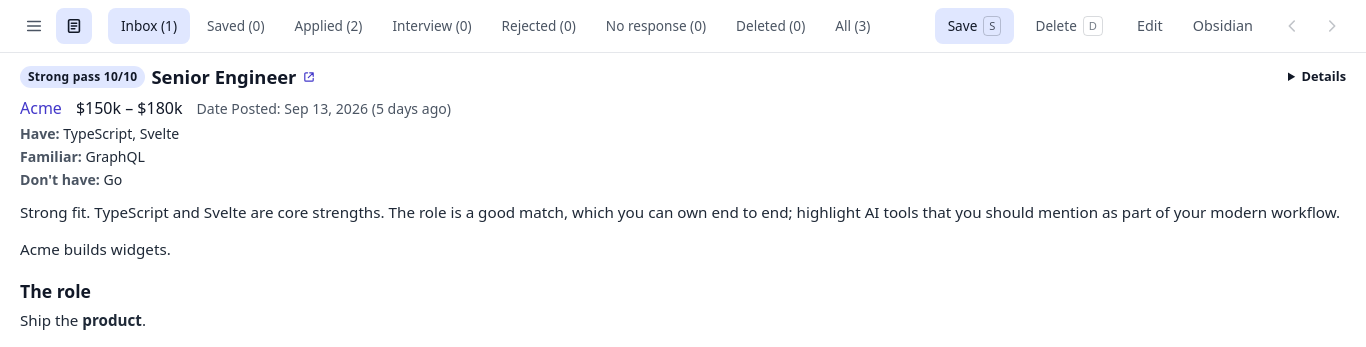
Test case: saving the last inbox job from detail moves to saved
The image size is (1366, 347).
expect the heading "Senior Engineer" is shown: met, box [152,65,296,88]
Click the button "Save S": (975, 26) [935,8,1014,44]
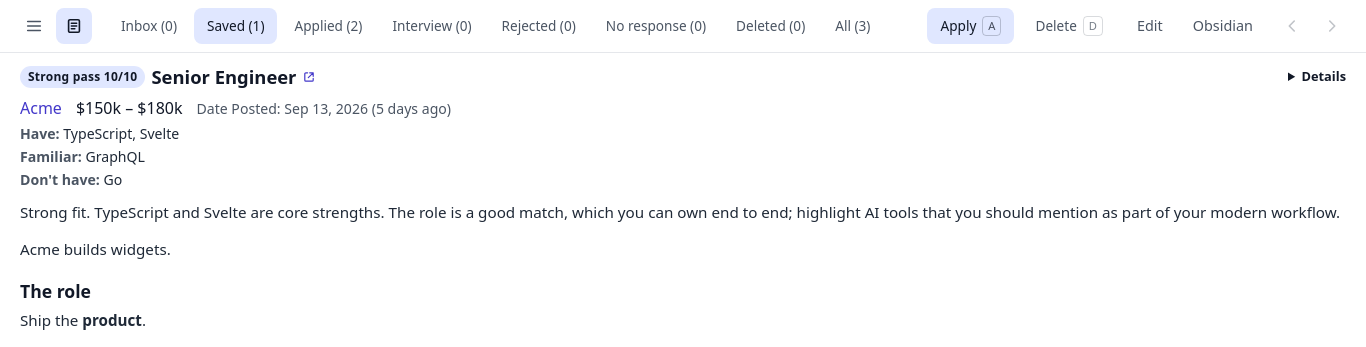
expect the button "Apply A" is shown: met, box [928,8,1014,44]
